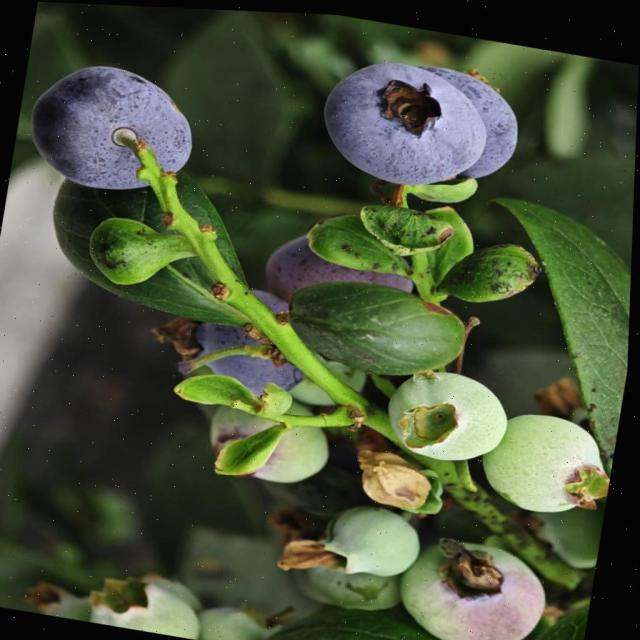RipeBlueBerry: (313, 47, 495, 195), (24, 55, 202, 199)
Semi-RipeBlueBerry: (409, 529, 569, 640)
UnripeBlueBerry: (482, 402, 616, 517), (387, 358, 522, 463), (323, 496, 429, 582)
